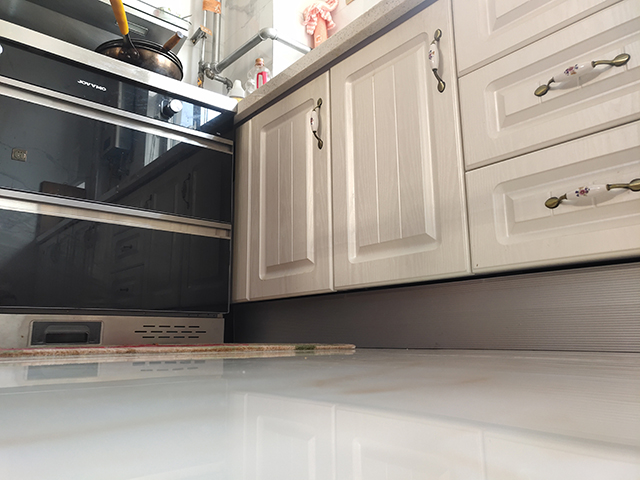cabinet: (230, 1, 640, 349)
carpet: (1, 341, 356, 359)
